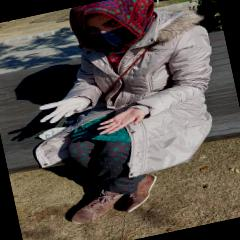gloved: (36, 96, 85, 126)
not-gloved: (94, 106, 145, 136)
